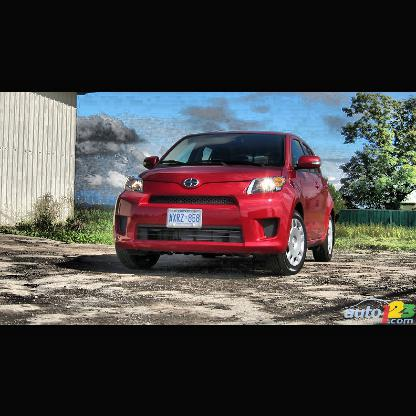Scion xD Hatchback 2012: (112, 130, 339, 276)
